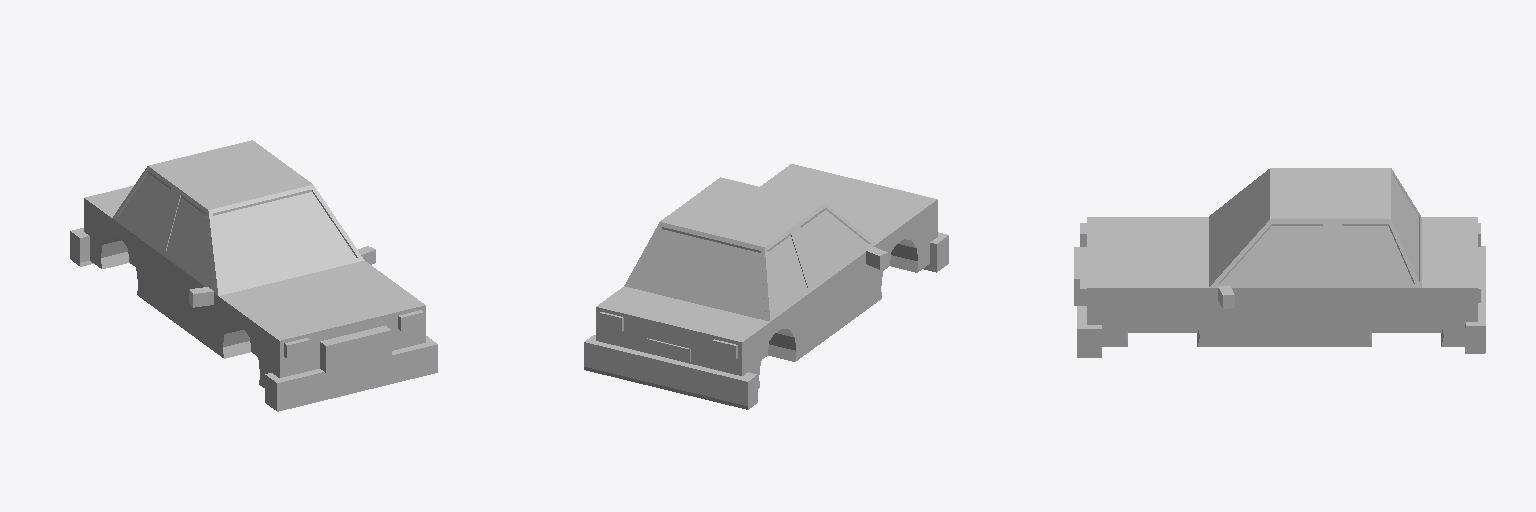
Rendered from chassis.obj.
3 renders of one model, left to right at view 1: azimuth 30°, elevation 25°; view 2: azimuth 150°, elevation 25°; view 3: azimuth 270°, elevation 25°, orthographic.
Visible parts, largest first — view 1: Cube.001; view 2: Cube.001; view 3: Cube.001.
Part boxes in pixels (x1,y1,x2,y2): Cube.001: (70, 140, 437, 411); Cube.001: (584, 164, 948, 409); Cube.001: (1074, 168, 1485, 357).
Size of the model in its own units: 2.5 by 1.63 by 4.88.